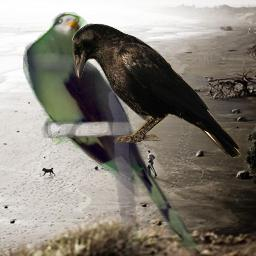Crow: (72, 23, 242, 158)
Cuckoo: (23, 12, 210, 254)
